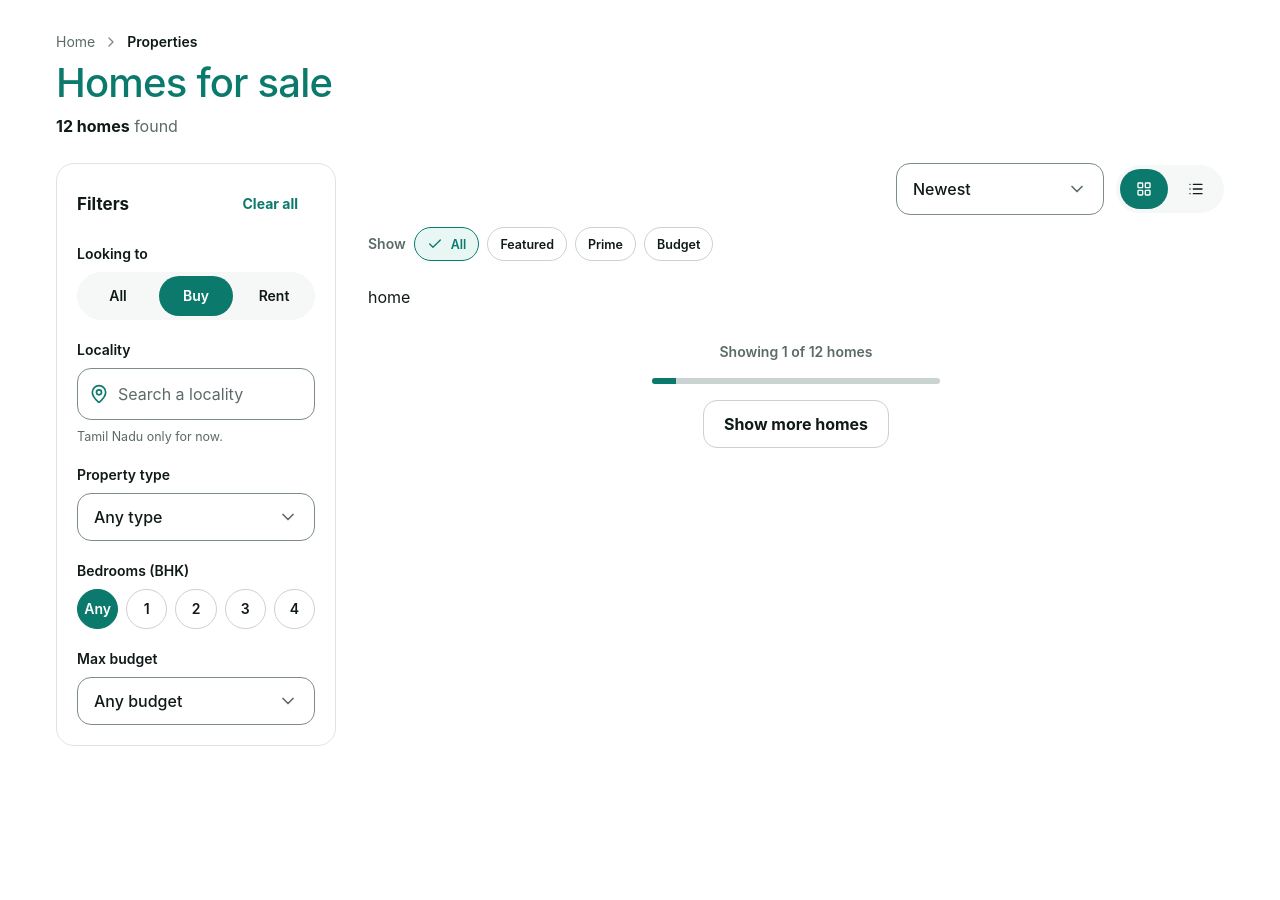
The Locality field of the results filters is a place search box (ADR-136) › applies once when Enter picks a highlighted suggestion
This screenshot has width=1280, height=900.
Later steps or results of the test are not shown.
Type "kk n" into the dropdown labelled "Locality" at (196, 394), box 77,368 -> 315,420
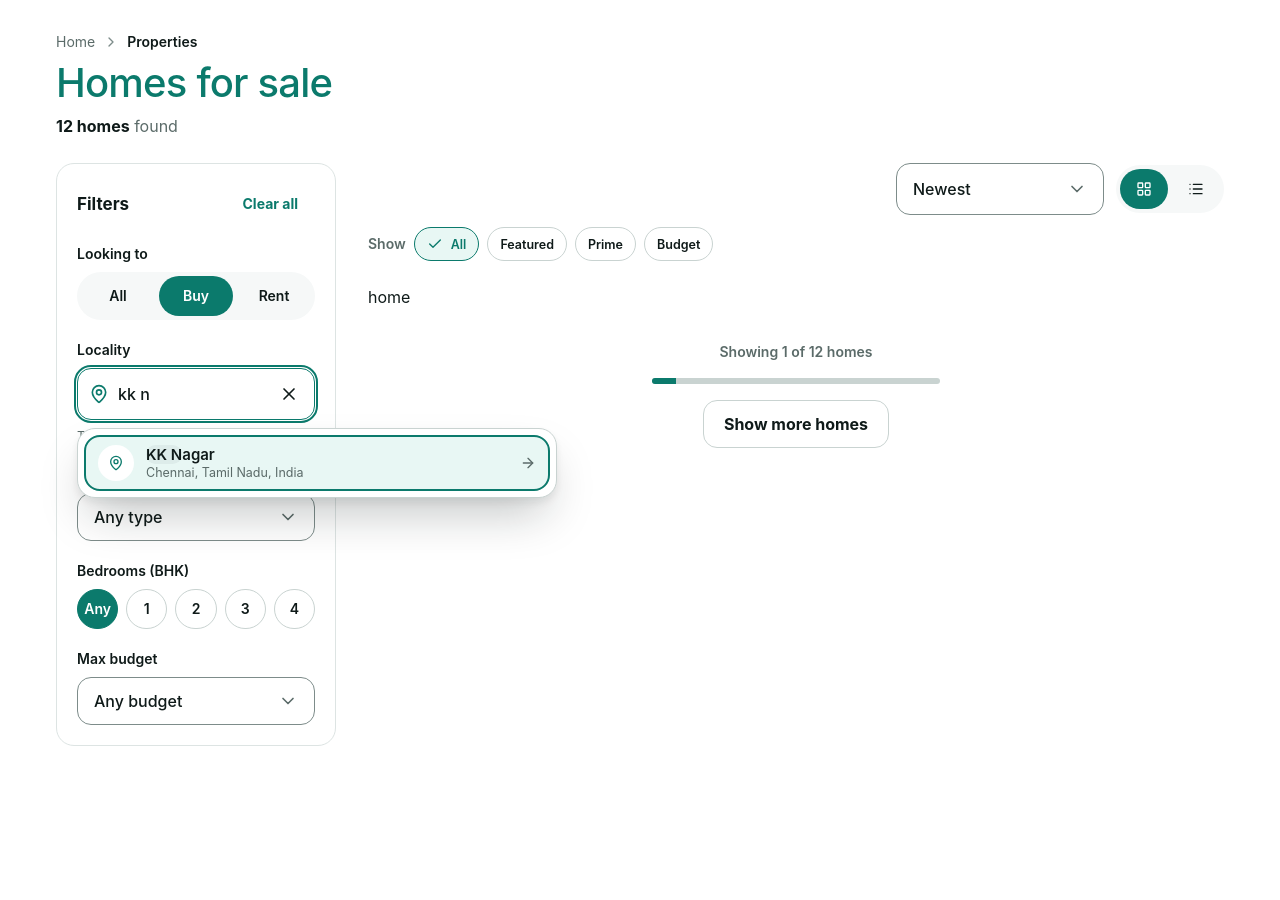
Check: the option "KK Nagar Chennai, Tamil Nadu, India" is shown, box 86,437 -> 548,489
